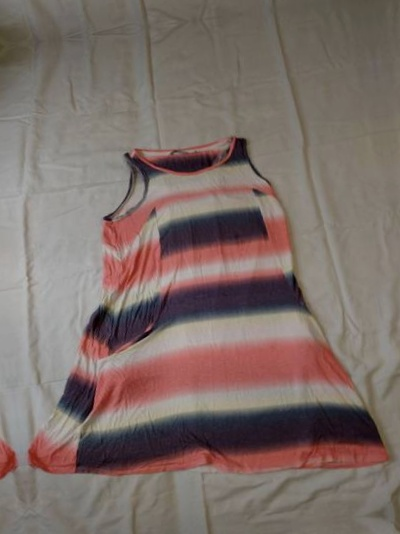Dress: (0, 73, 400, 533), (0, 126, 14, 534), (398, 18, 400, 478)
